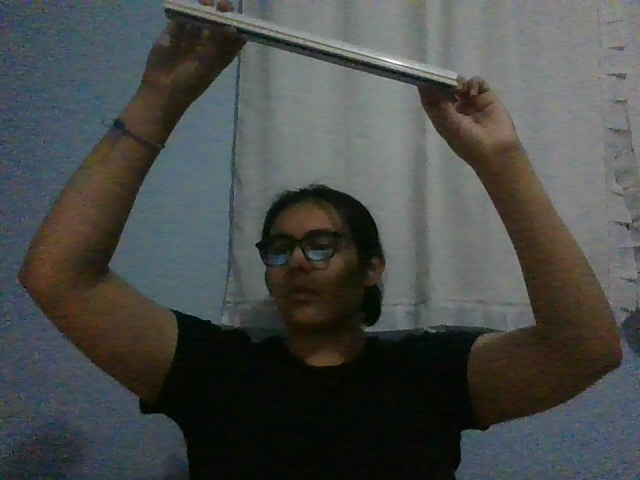regla: (162, 1, 458, 90)
